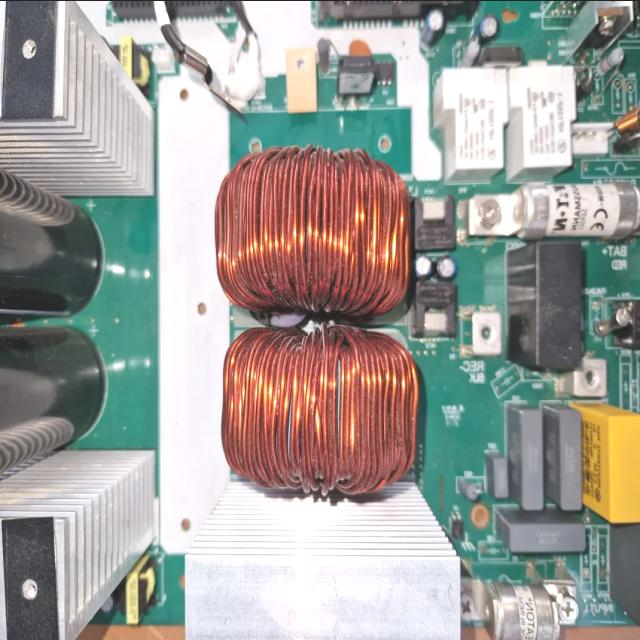A: (217, 148, 413, 320), (220, 323, 418, 490)
B: (470, 182, 640, 238), (462, 576, 576, 640)
C: (0, 163, 100, 316), (0, 322, 103, 469)
G: (188, 498, 462, 640), (0, 447, 153, 640), (0, 0, 150, 196)
